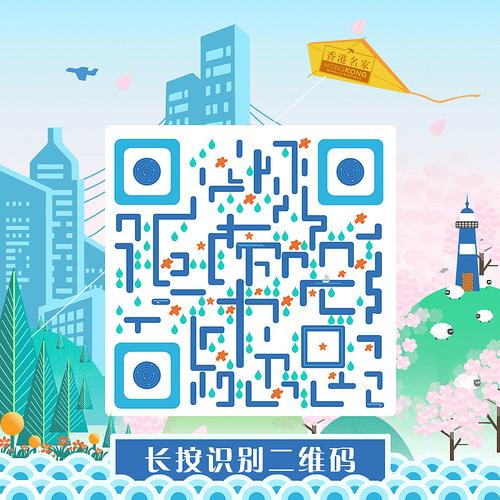QRCode: (103, 129, 396, 409)
